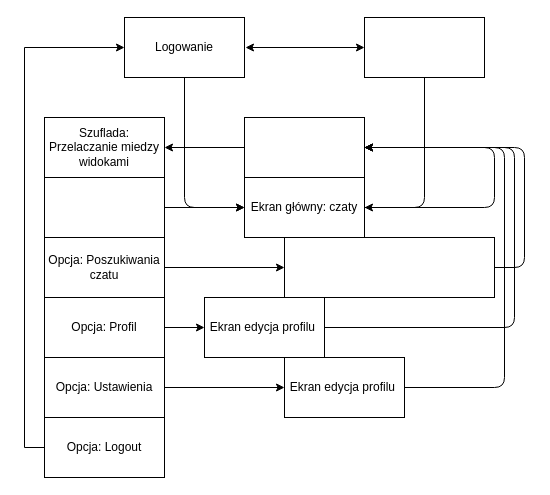
Image size: 550x495. Some labels were removed from this diagram. The box of each missing label's shape, as (x1, y1, x2, y2) in pixels:
Ekran poszukiwania czatu, zawierający losowe czaty dopasowane do profilu: (284, 236, 494, 298)
Opcja: Czaty: (44, 176, 164, 238)
Pasek górny: wysuniecie szuflady: (244, 116, 364, 178)
Rejestracja: (364, 16, 484, 78)
